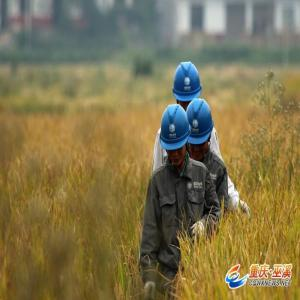blue: (161, 104, 189, 167), (187, 99, 213, 161), (173, 61, 202, 109)
